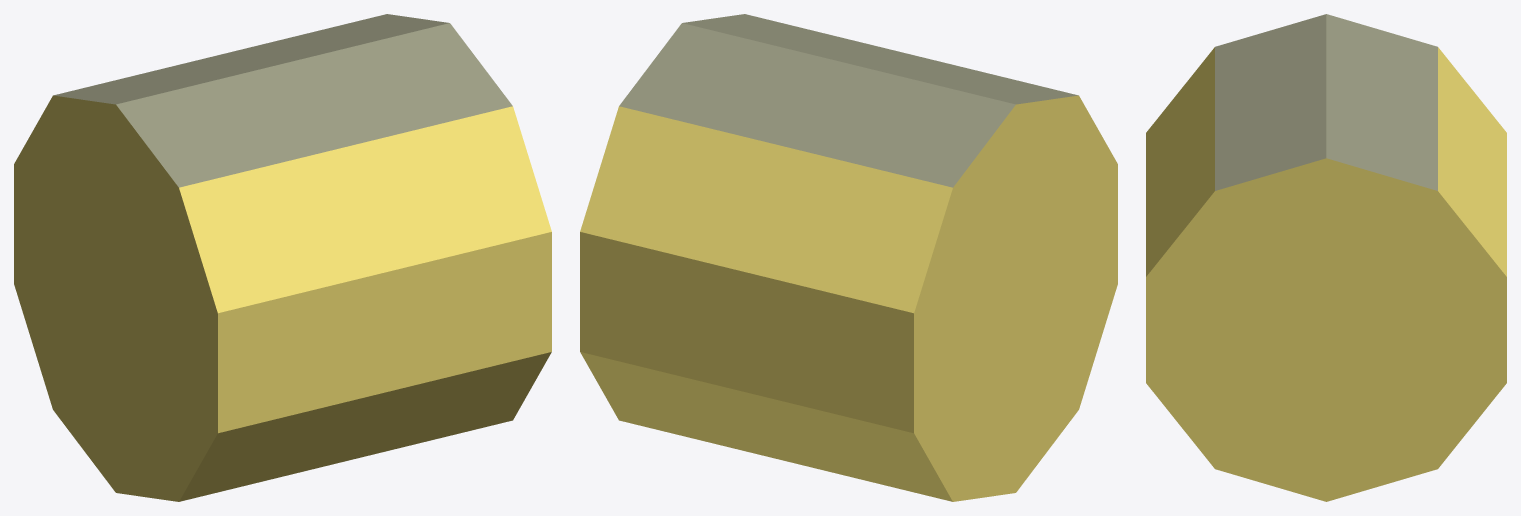
File: haybale.glb
3 renders of one model, left to right at view 1: azimuth 30°, elevation 25°; view 2: azimuth 150°, elevation 25°; view 3: azimuth 270°, elevation 25°, orthographic. The views are drawn at different scales.
Parts seen in each view (by area): view 1: Bale; view 2: Bale; view 3: Bale.
Boxes of the visible parts, left/top/right/bottom form: Bale: left=14, top=14, right=551, bottom=501; Bale: left=580, top=14, right=1117, bottom=501; Bale: left=1146, top=14, right=1506, bottom=501.
Size of the model in its own units: 0.9 by 1 by 0.9511.
